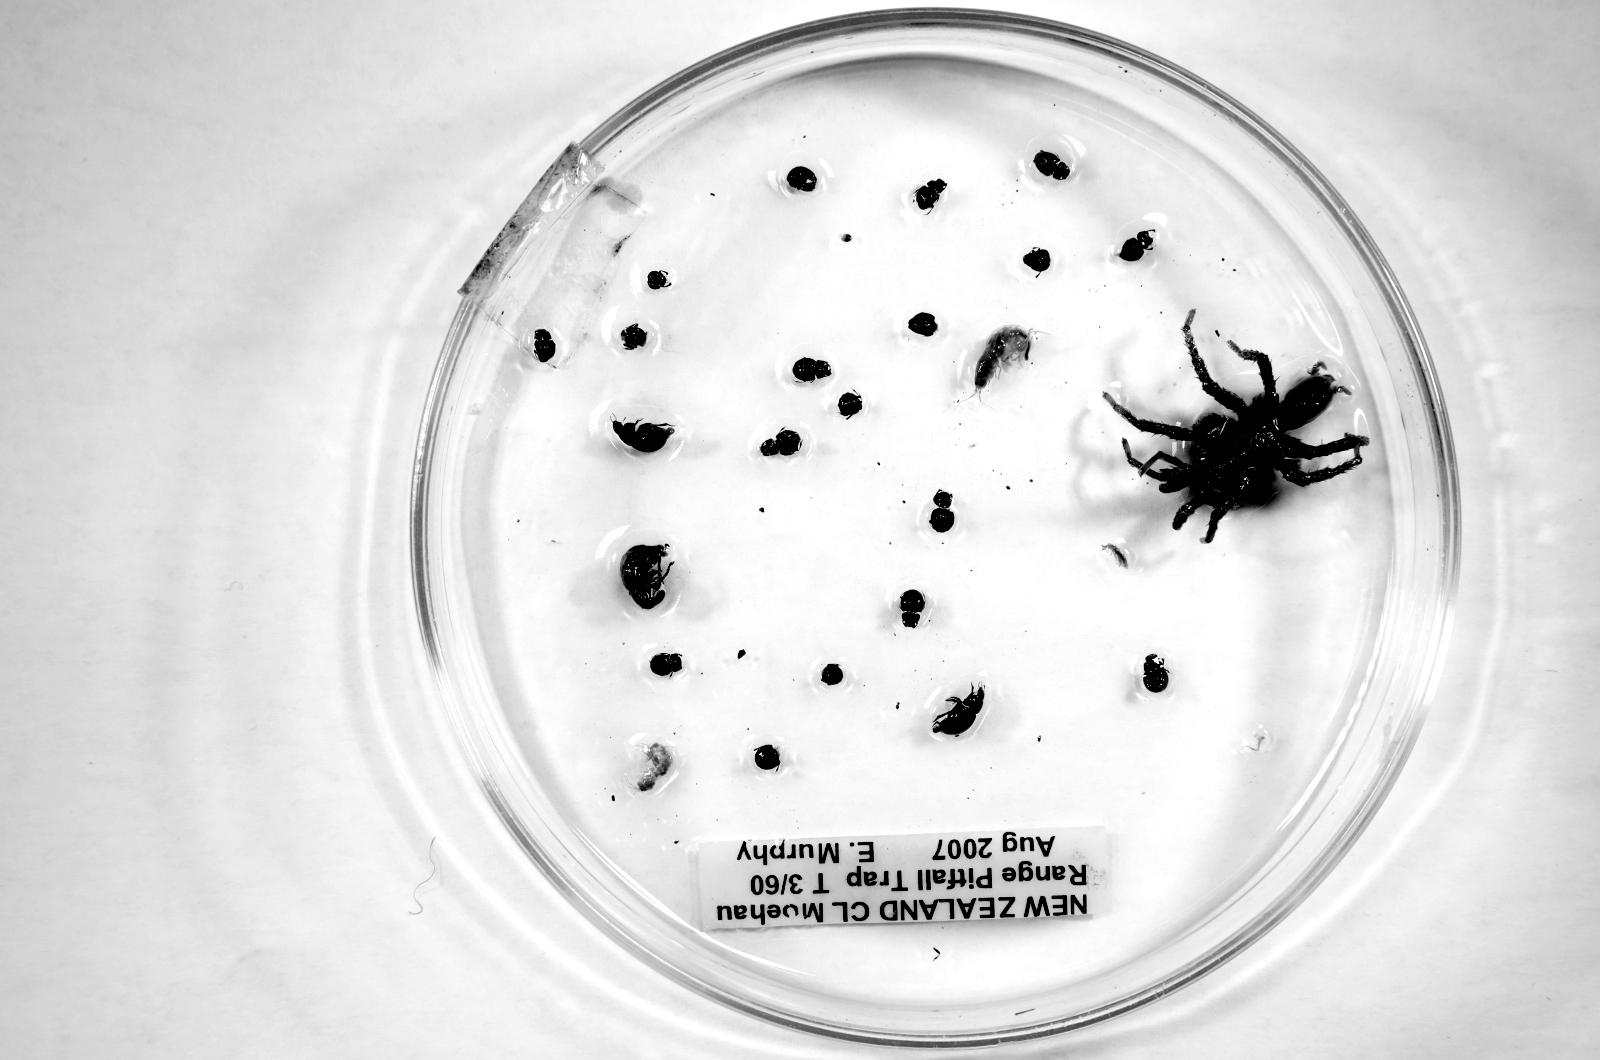amphipoda: (973, 325, 1037, 395), (636, 743, 674, 790)
araneae: (1106, 310, 1369, 543)
coleoptera: (621, 544, 673, 609), (933, 686, 985, 736), (611, 420, 676, 453), (759, 427, 802, 457), (913, 177, 947, 214), (1116, 228, 1154, 261), (1032, 149, 1071, 181), (898, 589, 927, 627), (1142, 653, 1170, 693), (929, 490, 954, 532), (792, 357, 831, 382), (532, 329, 557, 362), (649, 653, 682, 677)
collembola: (1101, 543, 1129, 569)
